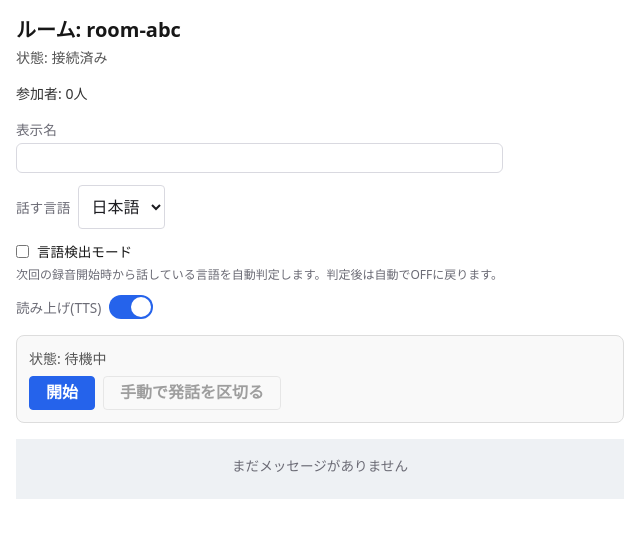
Test: RoomClient › Recorderのステータス変化(recording)でステータス表示とLanguageSelectorのdisabledが連動する
This screenshot has width=641, height=544.
expect the dropdown labelled "話す言語" is enabled: met, box [78,185,165,229]
Step 1. Click the button "開始" → x=62, y=393, box [29,376,95,410]
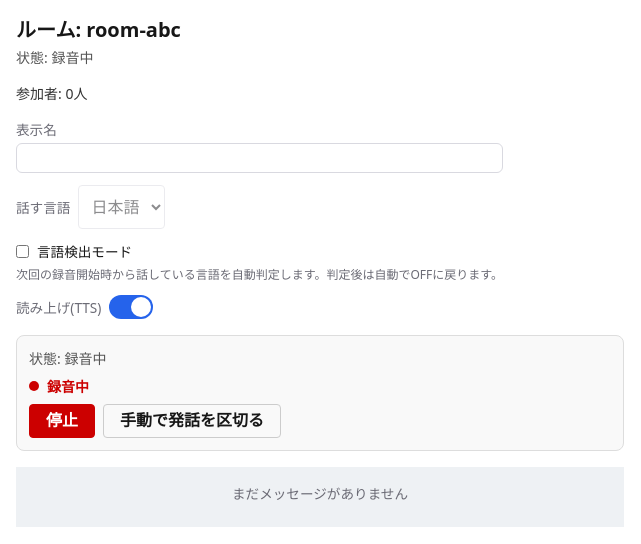
expect the text "ルーム: room-abc" shows "状態: 録音中": met, box [16,16,181,67]
expect the dropdown labelled "話す言語" is disabled: met, box [78,185,165,229]
